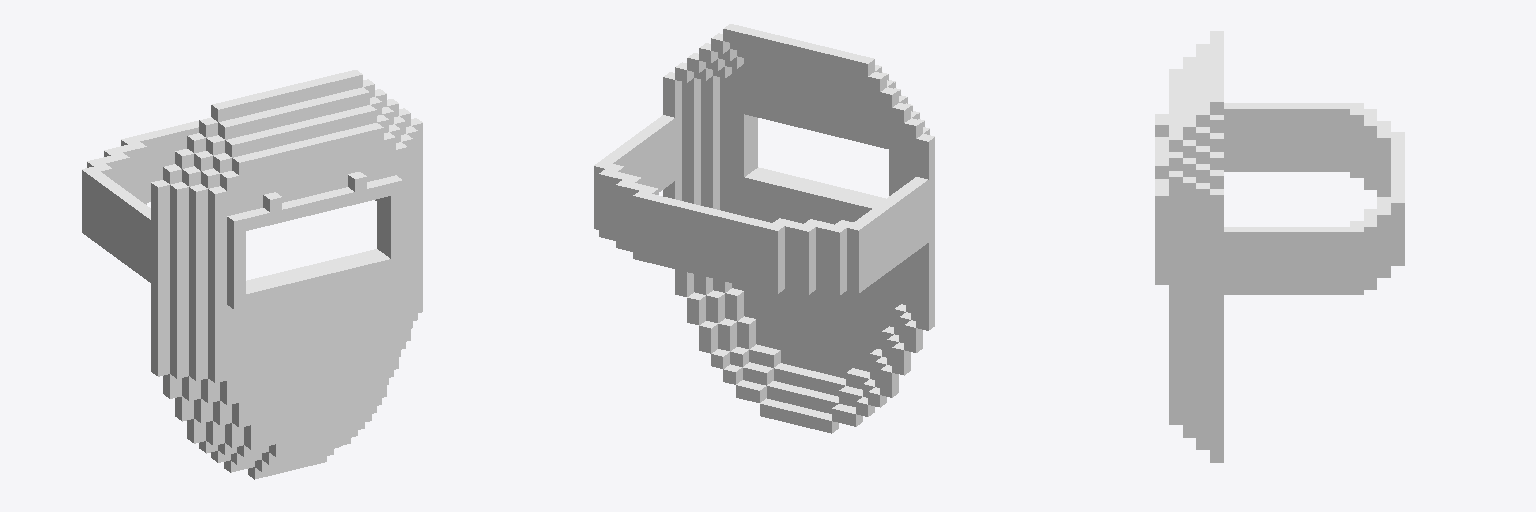
Rendered from MascaraDeSolda.obj.
3 renders of one model, left to right at view 1: azimuth 30°, elevation 25°; view 2: azimuth 150°, elevation 25°; view 3: azimuth 270°, elevation 25°, orthographic.
Parts seen in each view (by area): view 1: object 1; view 2: object 1; view 3: object 1.
Part boxes in pixels (left/top/right/bottom): object 1: left=82, top=70, right=422, bottom=479; object 1: left=594, top=24, right=934, bottom=433; object 1: left=1155, top=31, right=1404, bottom=462.
Size of the model in its own units: 2.2 by 3 by 1.8.